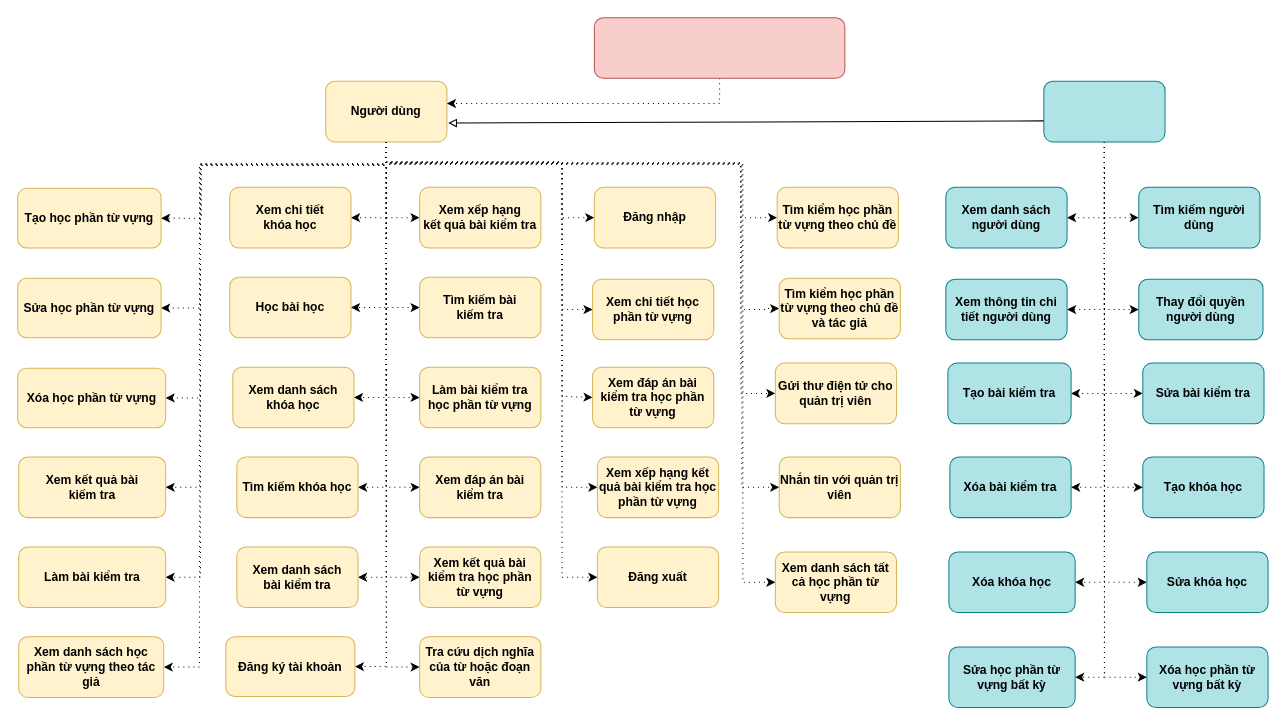
This 1286x725 diagram has some shape labels left out. Here are the shapes that lost their labels. From the top down, the centre of each, then its label:
At [719,47]: "Website hỗ trợ học tiếng anh trực tuyến".
At [1104,111]: "Quản trị viên".
